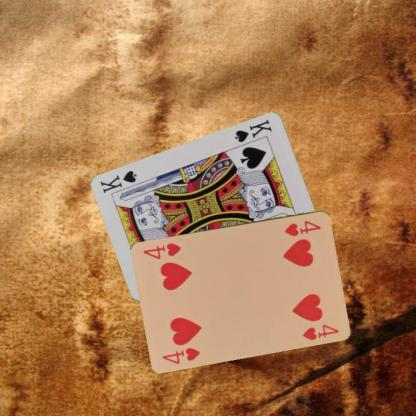4h: (160, 344, 202, 366), (282, 218, 322, 238)
Ks: (232, 118, 272, 144)
